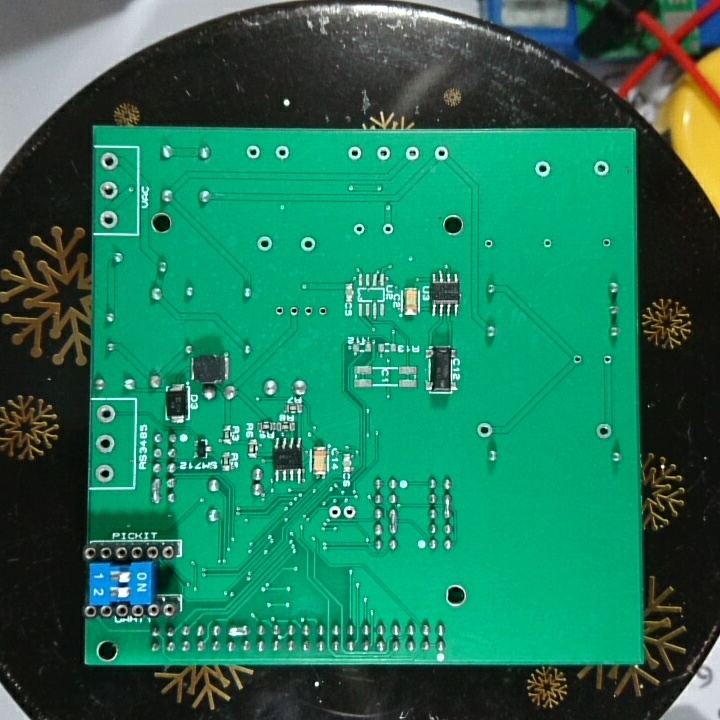F: (94, 402, 119, 428), (94, 431, 117, 456), (98, 208, 120, 231), (93, 463, 117, 484), (254, 233, 276, 255), (98, 180, 119, 203), (592, 158, 613, 180), (98, 150, 119, 172), (531, 160, 554, 180), (475, 420, 495, 443), (297, 235, 319, 255), (594, 421, 614, 442), (242, 142, 262, 163), (432, 142, 451, 163), (341, 501, 358, 524), (403, 143, 422, 163), (273, 143, 291, 163), (374, 143, 392, 163), (345, 143, 363, 162), (351, 220, 368, 240), (379, 219, 395, 238), (300, 300, 315, 320), (272, 301, 286, 321), (326, 503, 342, 520), (599, 352, 616, 367), (482, 235, 497, 252), (539, 235, 555, 250), (317, 300, 329, 320), (570, 352, 584, 368), (601, 235, 614, 252), (287, 302, 299, 320)
P: (440, 492, 456, 520), (148, 475, 162, 506), (386, 508, 401, 535), (226, 623, 251, 638)
